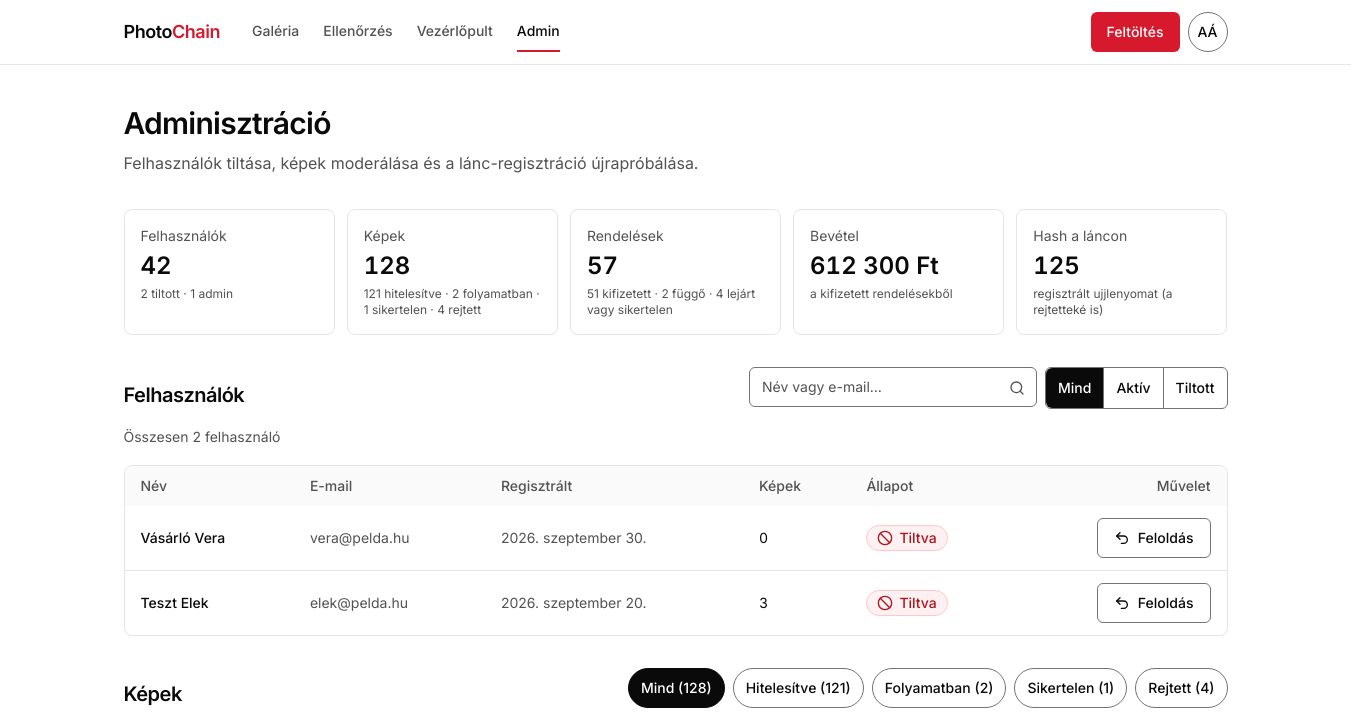
Test: AdminPage – felhasználók tiltása és feloldása › feloldás: Feloldás → PATCH {isBlocked: false}, a sor Aktív, a gombja Letiltás lesz és rajta marad a fókusz, bemondás; hibánál riasztás a táblázat fölött, a gomb
Expected: the text "Összesen 2 felhasználó" is shown, [124,428,280,445]
Click the button named "Feloldás: Vásárló Vera" at (1154, 538), box [1097,518,1210,558]
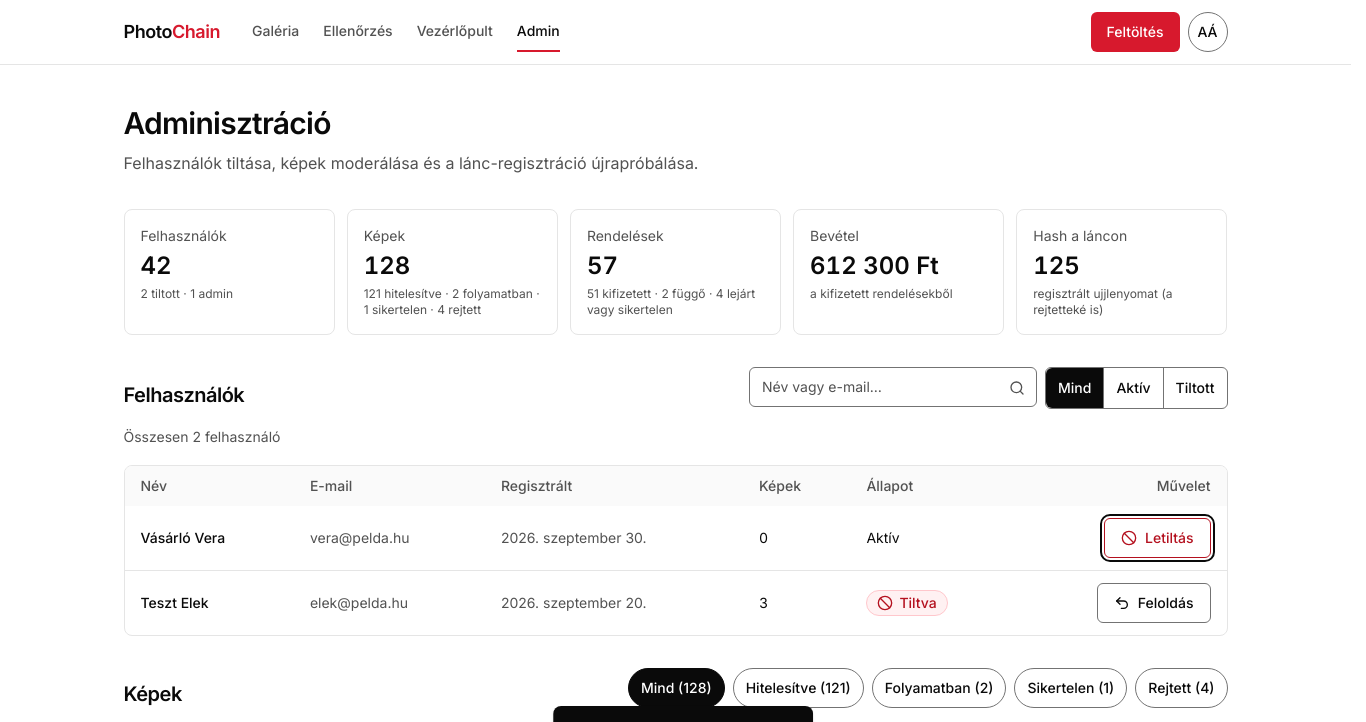
Now the text "Aktív" is shown, box [850,506,1015,570]
Click the button named "Feloldás: Teszt Elek" at (1154, 603), box [1097,583,1210,623]
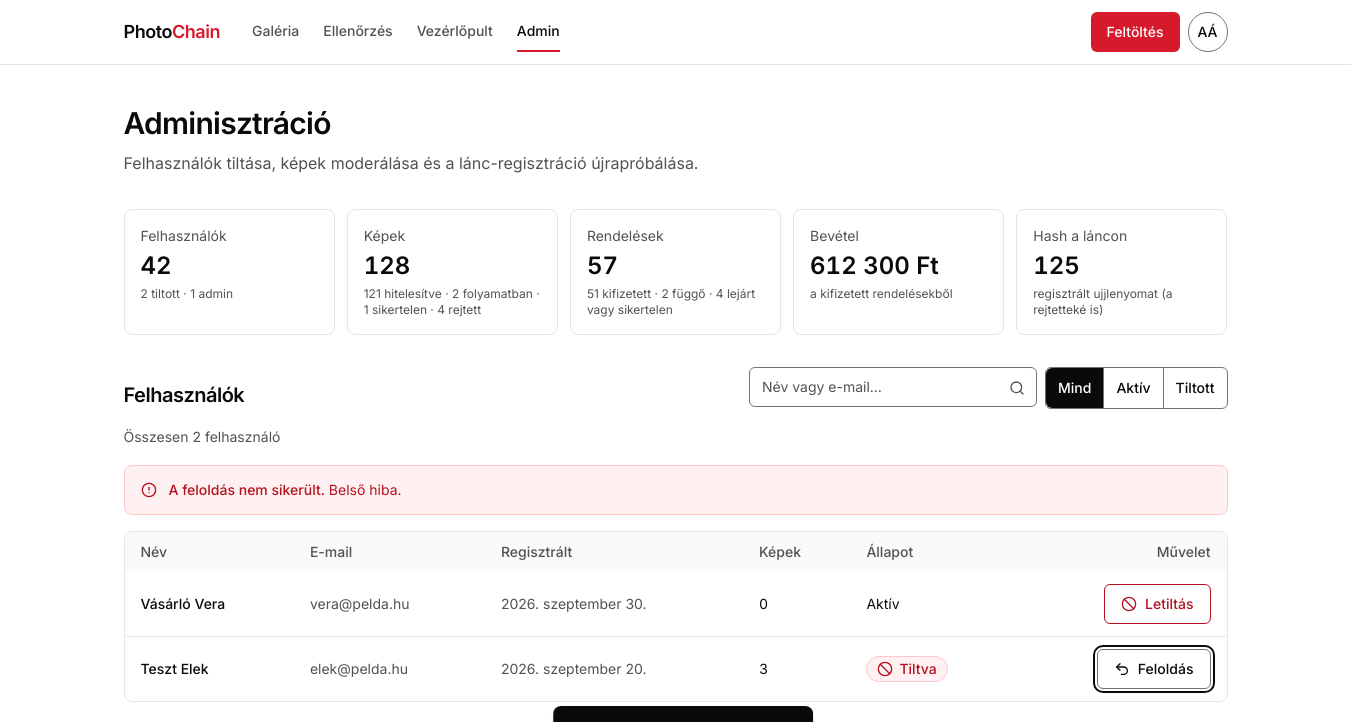
Expected: the text "Tiltva" is shown, [866,656,948,682]
Now the message "A feloldás nem sikerült. Belső hiba." is shown, box [124,465,1228,515]
